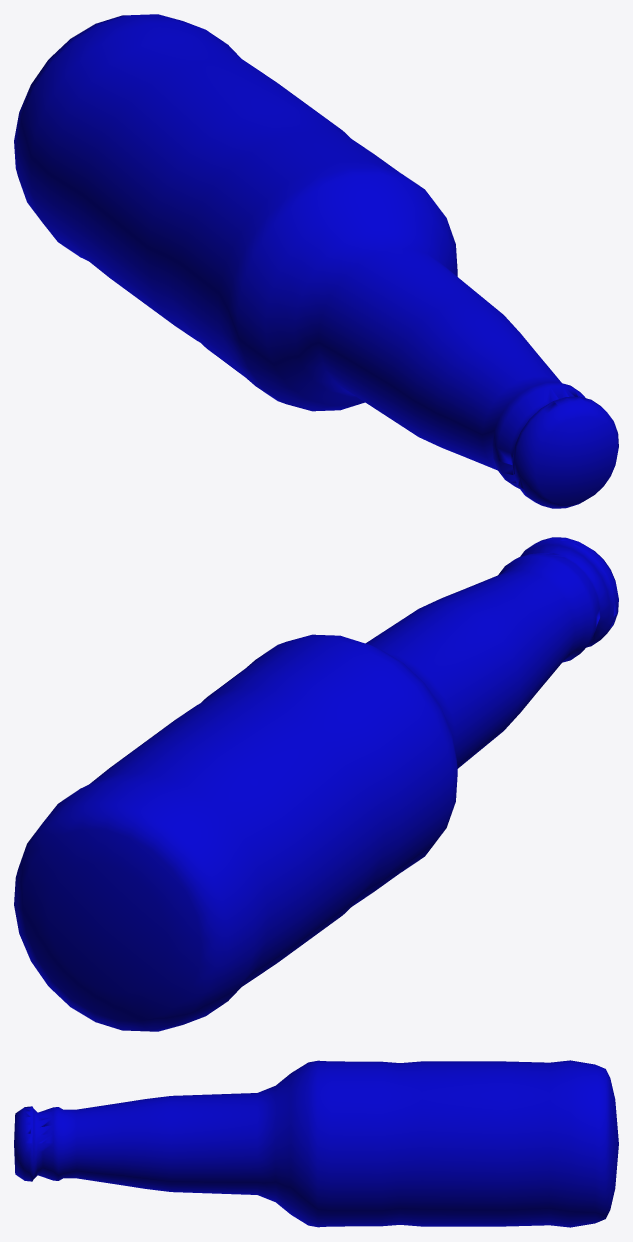
File: bottle1_2.dae
3 views of the same model, one above another, from view 1: azimuth 30°, elevation 25°; view 2: azimuth 150°, elevation 25°; view 3: azimuth 270°, elevation 25° (orthographic). The views are drawn at different scales.
Visible parts, largest first — view 1: bottle1; view 2: bottle1; view 3: bottle1.
Boxes of the visible parts, x1=… form: bottle1: x1=14, y1=14, x2=618, y2=508; bottle1: x1=14, y1=537, x2=618, y2=1031; bottle1: x1=14, y1=1060, x2=618, y2=1227.
Bounding box in the file's own units: 0.0453 × 0.1642 × 0.0453.
